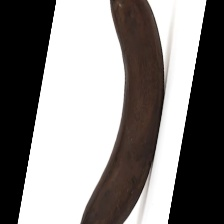banana: (11, 50, 202, 217)
